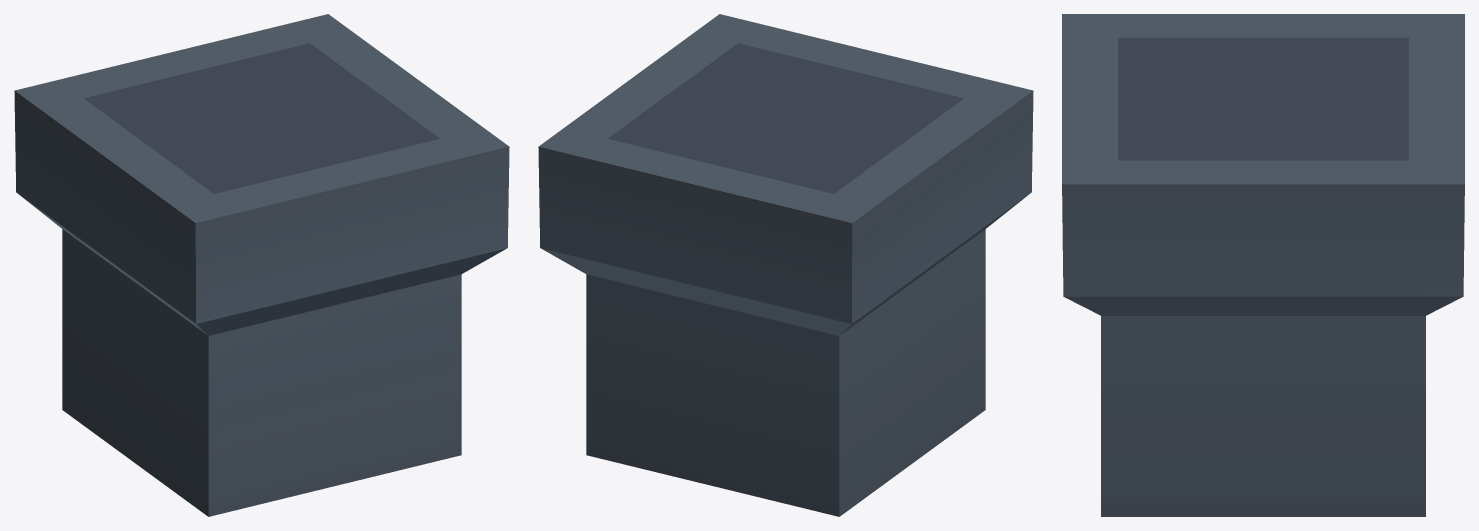
File: Chimney_2_A_3.fbx
3 views of the same model, side by side, from view 1: azimuth 30°, elevation 25°; view 2: azimuth 150°, elevation 25°; view 3: azimuth 270°, elevation 25° (orthographic). The views are drawn at different scales.
Parts seen in each view (by area): view 1: Chimney_2_A_3; view 2: Chimney_2_A_3; view 3: Chimney_2_A_3.
Boxes of the visible parts, box(x1,y1,x2,y2) form: Chimney_2_A_3: box(14, 14, 509, 516); Chimney_2_A_3: box(538, 14, 1033, 516); Chimney_2_A_3: box(1062, 14, 1464, 516).
Bounding box in the file's own units: 63.29 × 60.52 × 63.29.
